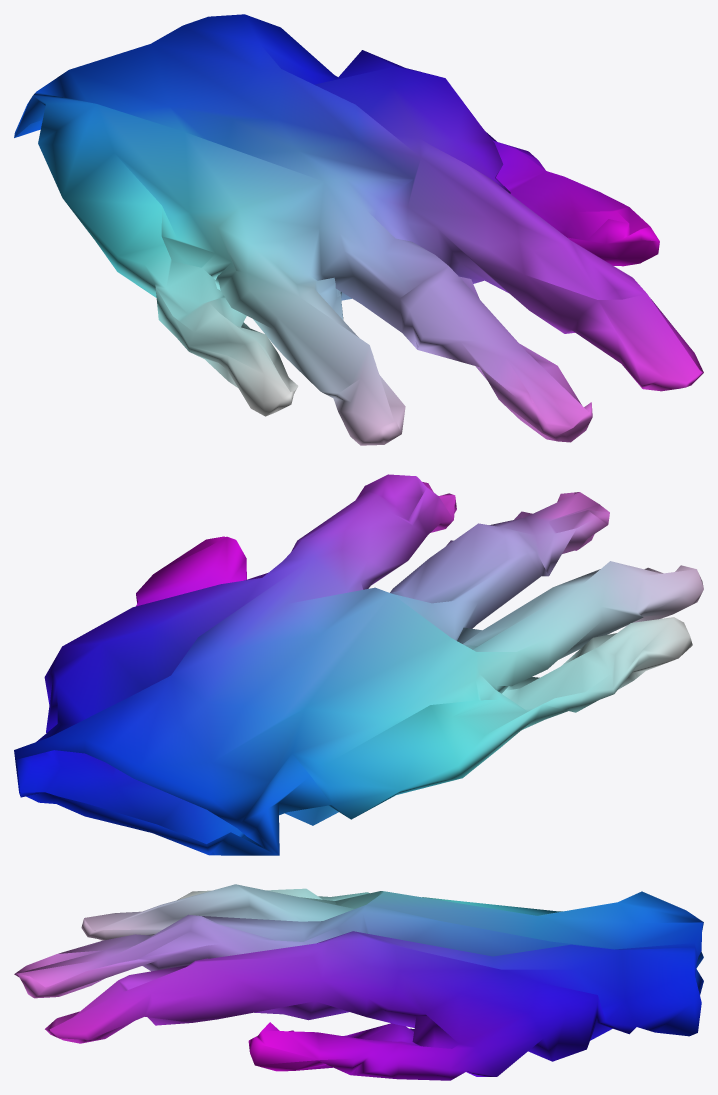
The model's file is gloveRight_v01.fbx.
The picture shows the model from 3 angles, top to bottom: view 1: azimuth 30°, elevation 25°; view 2: azimuth 150°, elevation 25°; view 3: azimuth 270°, elevation 25°; orthographic projection. The views are drawn at different scales.
Parts seen in each view (by area): view 1: gloveRight; view 2: gloveRight; view 3: gloveRight.
Part boxes in pixels (x1,y1,x2,y2): gloveRight: (14,14,703,445); gloveRight: (14,474,703,855); gloveRight: (14,884,703,1080).
Bounding box in the file's own units: 0.114 × 0.0278 × 0.1949.
